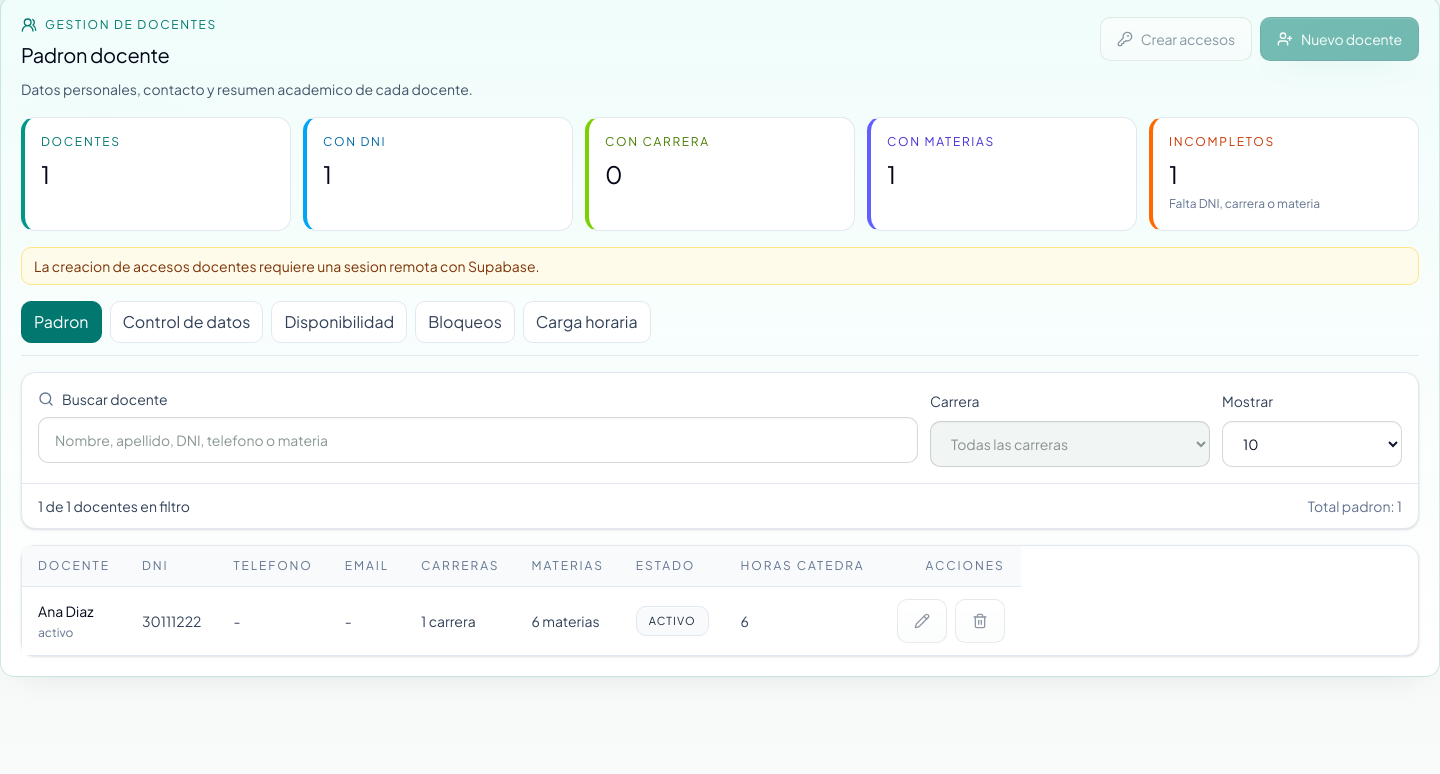
it: TeacherRosterSection fechas bloqueadas › muestra todos los recuadros de disponibilidad de un docente sin resumir excedentes
Click the button "Disponibilidad" at (339, 322), box [271, 301, 407, 343]
(page scrolled)
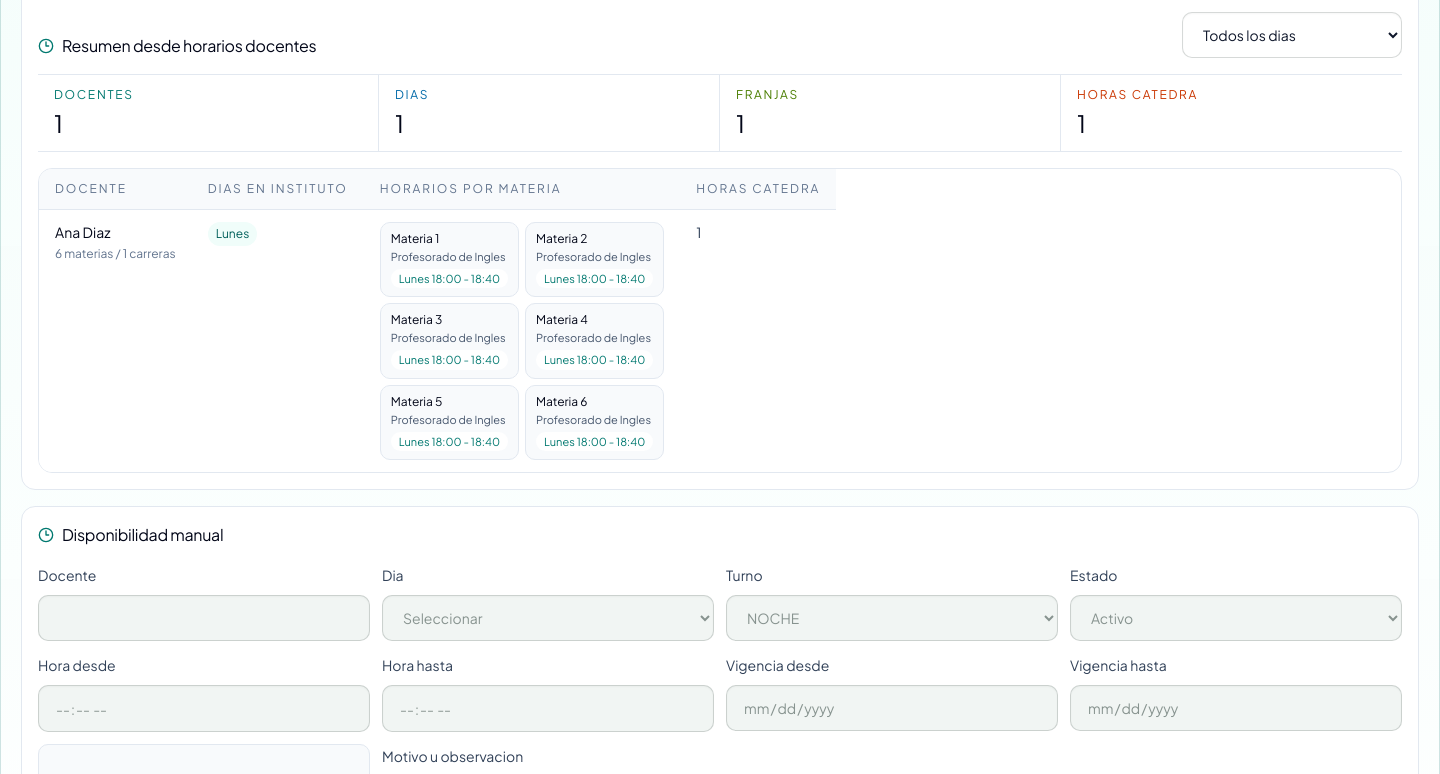
Check: the text "6 materias / 1 carreras" is shown, box [55, 246, 176, 262]
